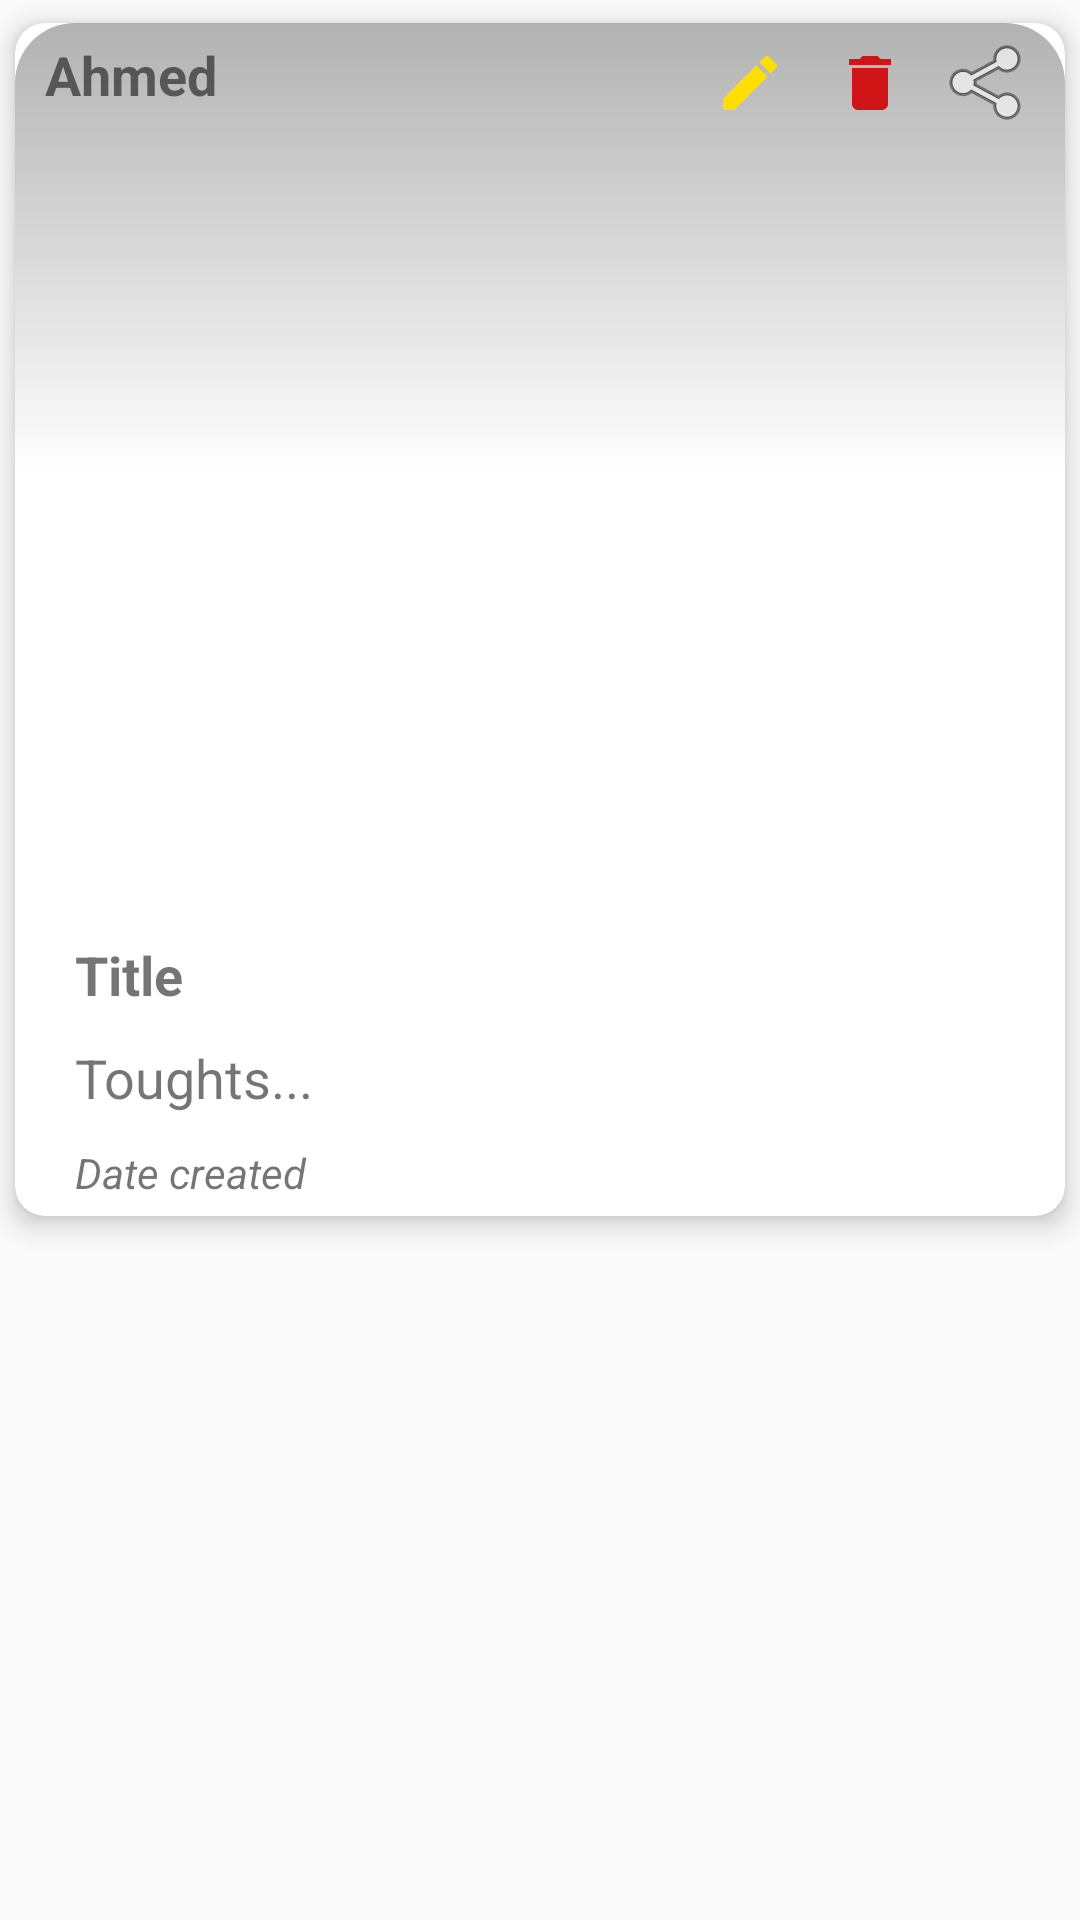

Point at icon controls on the screen. Image size 1080px x 1920px, points as [x,y].
delete: [870,83]
share: [990,71]
